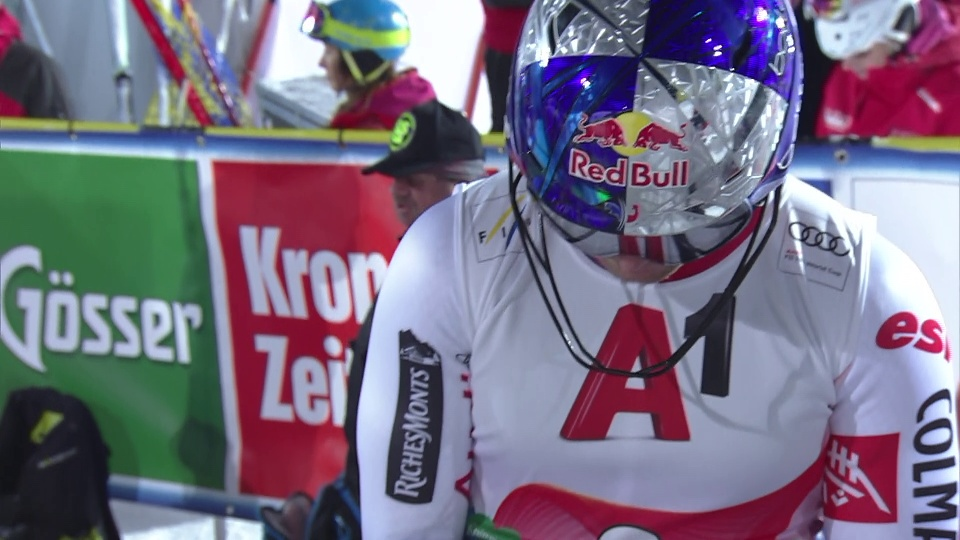a1: (551, 312, 758, 458)
audi: (791, 222, 851, 264)
goesser: (1, 214, 230, 404)
kronenezeitung: (225, 193, 431, 450)
longines: (381, 374, 445, 491)
redbull: (560, 103, 712, 204)
